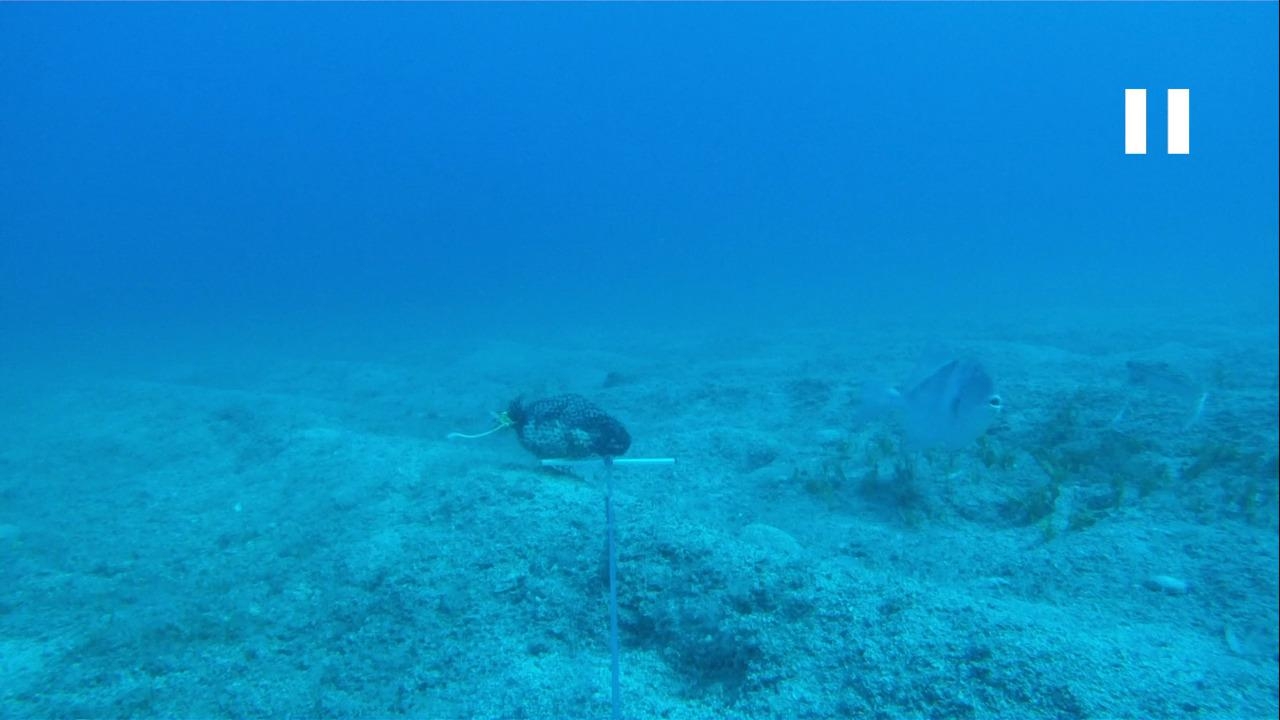balistes: (840, 331, 1010, 484)
dactylopterus: (1103, 350, 1241, 439)
